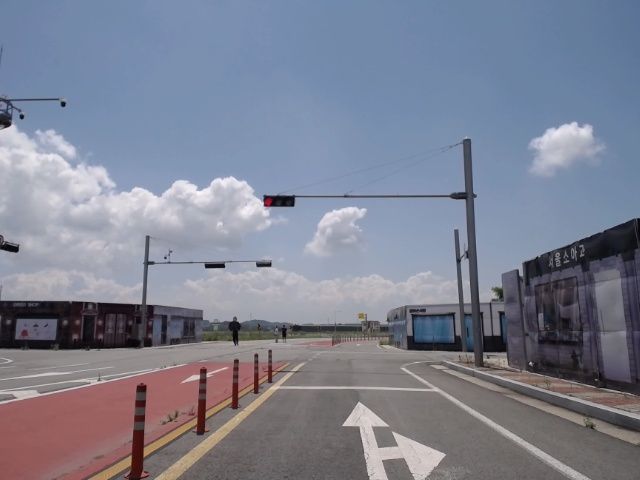red_3: (262, 195, 296, 207)
